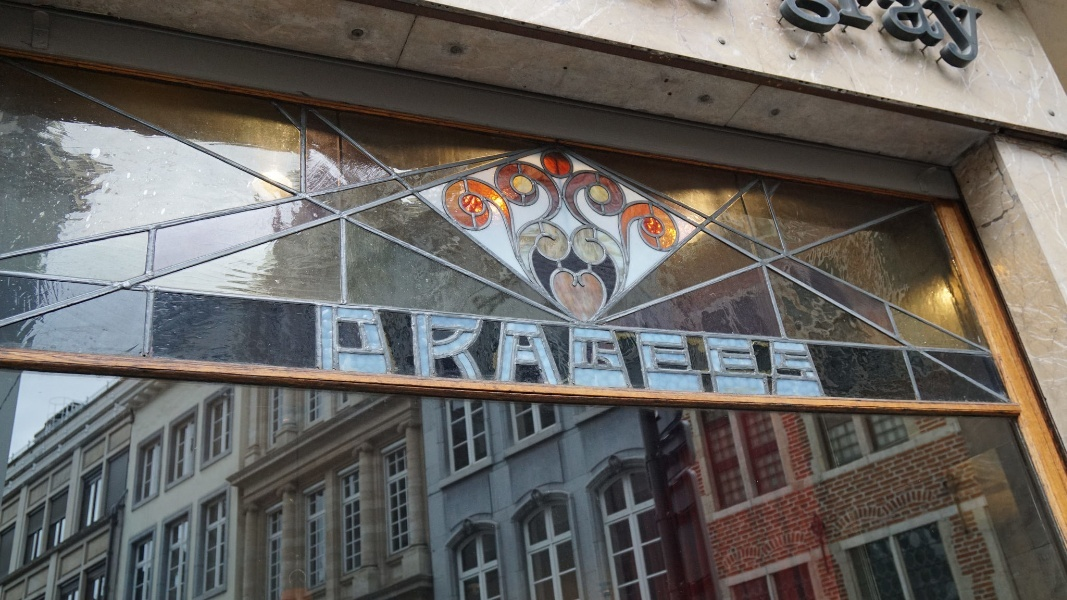text: (321, 303, 336, 399), (337, 303, 352, 399), (353, 303, 368, 399), (369, 303, 384, 399), (385, 303, 400, 399), (401, 303, 416, 399), (417, 303, 432, 399), (433, 303, 448, 399), (449, 303, 464, 399), (465, 303, 480, 399), (481, 303, 496, 399), (497, 303, 512, 399), (513, 303, 528, 399), (529, 303, 544, 399), (545, 303, 560, 399), (561, 303, 576, 399), (577, 303, 592, 399), (593, 303, 608, 399), (609, 303, 624, 399), (625, 303, 640, 399), (641, 303, 656, 399), (657, 303, 672, 399), (673, 303, 688, 399), (689, 303, 704, 399), (705, 303, 720, 399), (721, 303, 736, 399), (737, 303, 752, 399), (753, 303, 768, 399), (769, 303, 784, 399), (785, 303, 800, 399), (801, 303, 816, 399), (785, 1, 800, 72), (801, 1, 816, 72), (817, 1, 832, 72), (833, 1, 848, 72), (849, 1, 864, 72), (865, 1, 880, 72), (881, 1, 896, 72), (897, 1, 912, 72), (913, 1, 928, 72), (929, 1, 944, 72), (945, 1, 960, 72), (961, 1, 976, 72), (817, 303, 827, 399), (313, 303, 320, 399), (977, 1, 986, 72), (776, 1, 784, 72)
